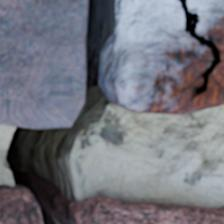brick: (103, 0, 223, 114), (0, 0, 87, 127)
broken_brick: (73, 195, 223, 223), (0, 184, 41, 223)
crack: (0, 0, 117, 223), (175, 0, 222, 100), (172, 110, 178, 113)
